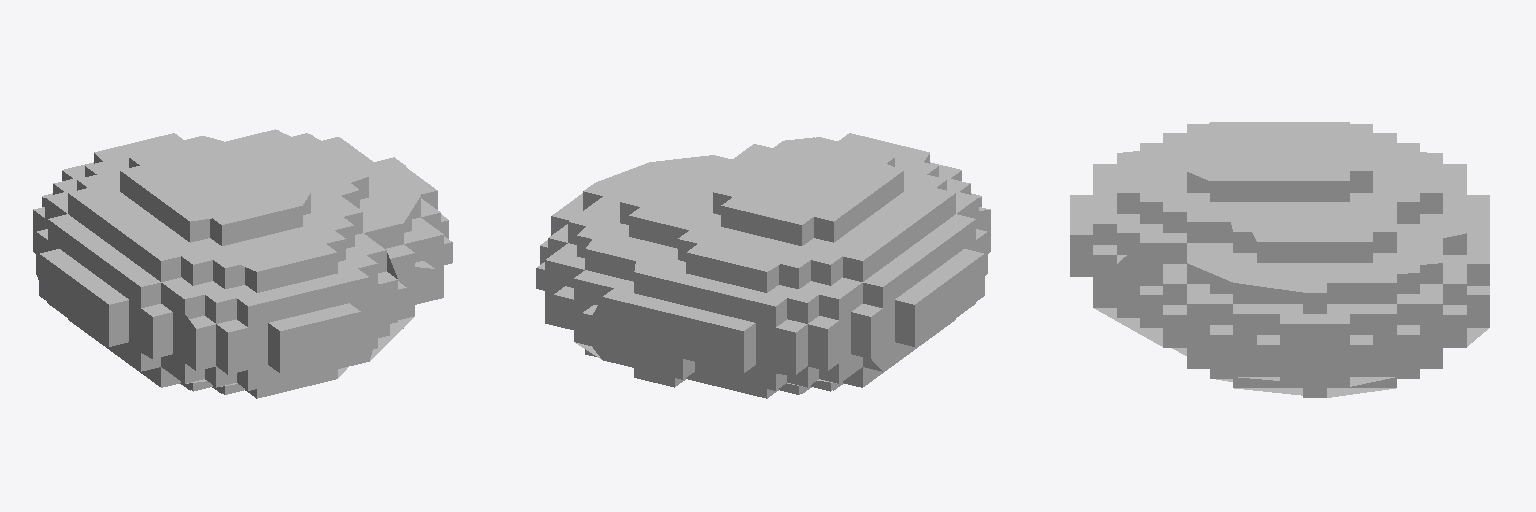
Rendered from rock1.obj.
The picture shows the model from 3 angles: view 1: azimuth 30°, elevation 25°; view 2: azimuth 150°, elevation 25°; view 3: azimuth 270°, elevation 25°; orthographic projection.
Parts seen in each view (by area): view 1: rock1; view 2: rock1; view 3: rock1.
Boxes of the visible parts, <box> form: rock1: <box>33,129,452,398</box>; rock1: <box>536,133,990,398</box>; rock1: <box>1070,122,1489,397</box>.
Bounding box in the file's own units: 1.8 × 0.8 × 1.8.